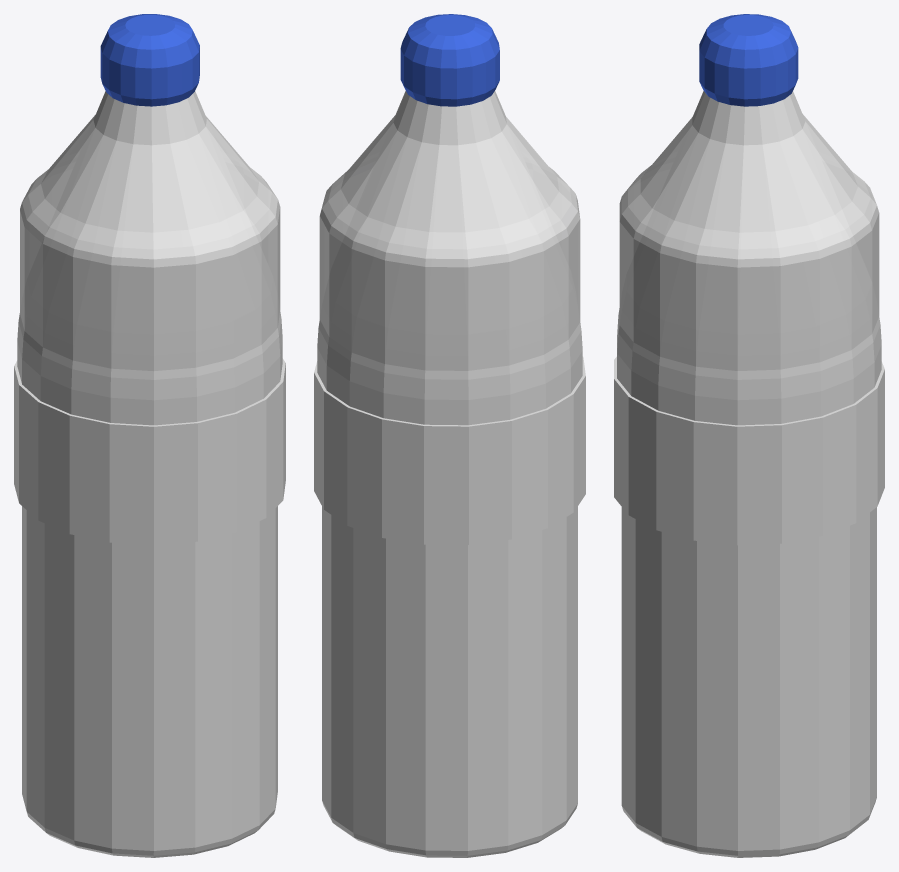
The model's file is BotellaAlcohol.fbx.
3 views of the same model, side by side, from view 1: azimuth 30°, elevation 25°; view 2: azimuth 150°, elevation 25°; view 3: azimuth 270°, elevation 25° (orthographic).
Visible parts, largest first — view 1: Cylinder, Cylinder.001; view 2: Cylinder, Cylinder.001; view 3: Cylinder, Cylinder.001.
Part boxes in pixels (x1,y1,x2,y2): Cylinder: (14,91,285,857); Cylinder.001: (20,14,280,815); Cylinder: (314,91,585,857); Cylinder.001: (319,14,580,833); Cylinder: (614,91,884,857); Cylinder.001: (619,14,879,832).
Bounding box in the file's own units: 211 × 672 × 211.
